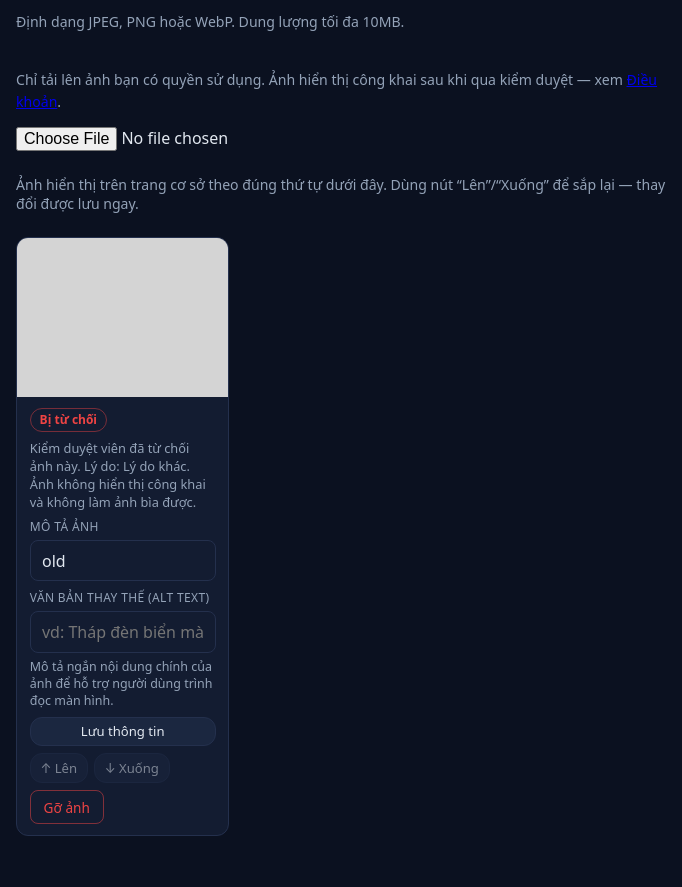
Scenario: PhotosView — phản hồi kiểm duyệt (ảnh bị từ chối) › PhotosView — mã lý do từ chối (Controlled Media Rejection Reason) › server trả rejected -> published (khôi phục) -> lý do biến mất theo ĐÚNG dữ liệu server, không giữ lại
(page scrolled)
Expected: the text "Lý do: Lý do khác." is shown, 30,439 -> 206,511
Click the button "Lưu thông tin". click: click(123, 731)
box: 30,717 -> 216,746
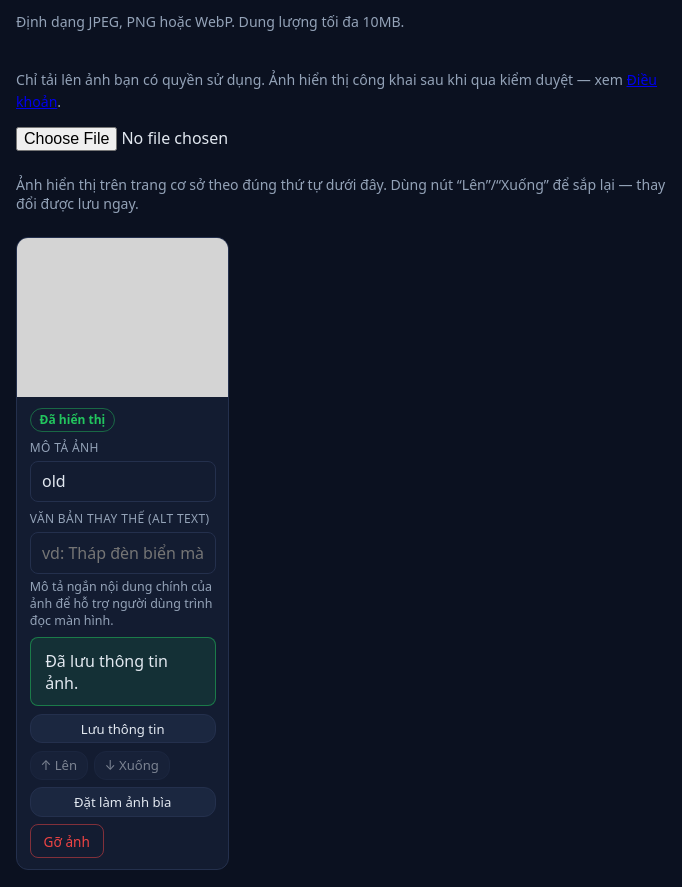
Result: the text "Đã hiển thị" is shown at 30,408 -> 115,432
Result: the text "Lý do:" is gone
